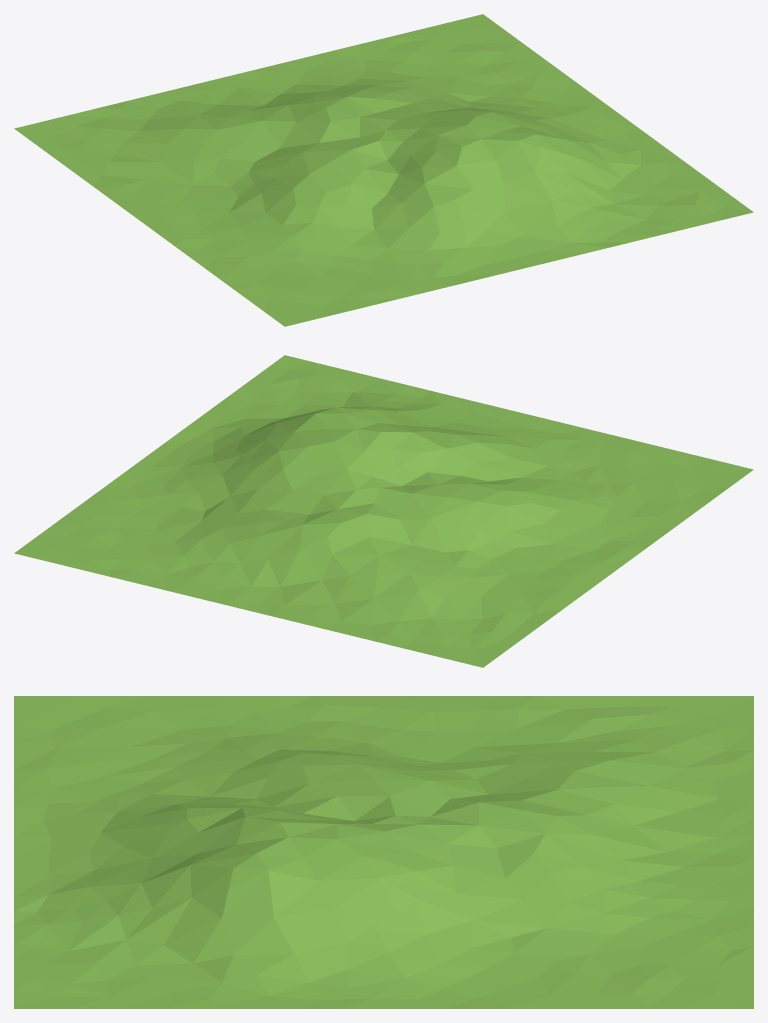
The model's file is MT_Terrain_M_a_11_LOD.fbx.
3 renders of one model, top to bottom at view 1: azimuth 30°, elevation 25°; view 2: azimuth 150°, elevation 25°; view 3: azimuth 270°, elevation 25°, orthographic. The views are drawn at different scales.
Parts seen in each view (by area): view 1: MT_Terrain_M_a_11_LOD0; view 2: MT_Terrain_M_a_11_LOD0; view 3: MT_Terrain_M_a_11_LOD0.
Part boxes in pixels (bbox=[...]): MT_Terrain_M_a_11_LOD0: bbox=[14, 14, 753, 326]; MT_Terrain_M_a_11_LOD0: bbox=[14, 355, 753, 667]; MT_Terrain_M_a_11_LOD0: bbox=[14, 696, 753, 1008].
Size of what is drawn, in the model's own units: 5000 by 440 by 5000.
